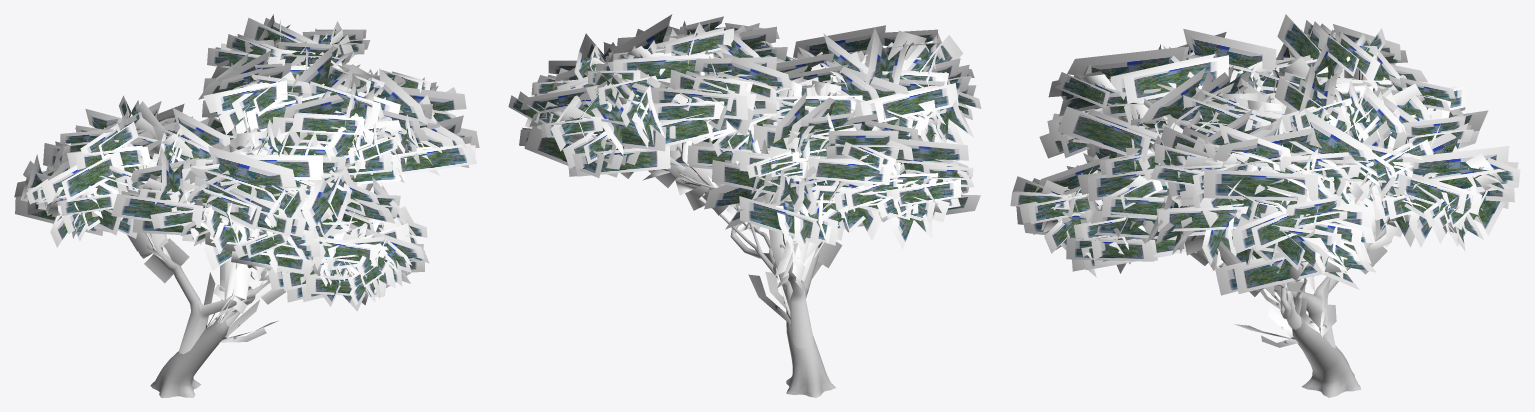
The model's file is Type_1_5.fbx.
3 renders of one model, left to right at view 1: azimuth 30°, elevation 25°; view 2: azimuth 150°, elevation 25°; view 3: azimuth 270°, elevation 25°, orthographic. The views are drawn at different scales.
Visible parts, largest first — view 1: Type_1_5; view 2: Type_1_5; view 3: Type_1_5.
Part boxes in pixels (box(x1,y1,x2,y2)): Type_1_5: box(14, 14, 479, 397); Type_1_5: box(508, 14, 981, 397); Type_1_5: box(1010, 14, 1520, 397).
Bounding box in the file's own units: 20.79 × 18.73 × 13.79.
